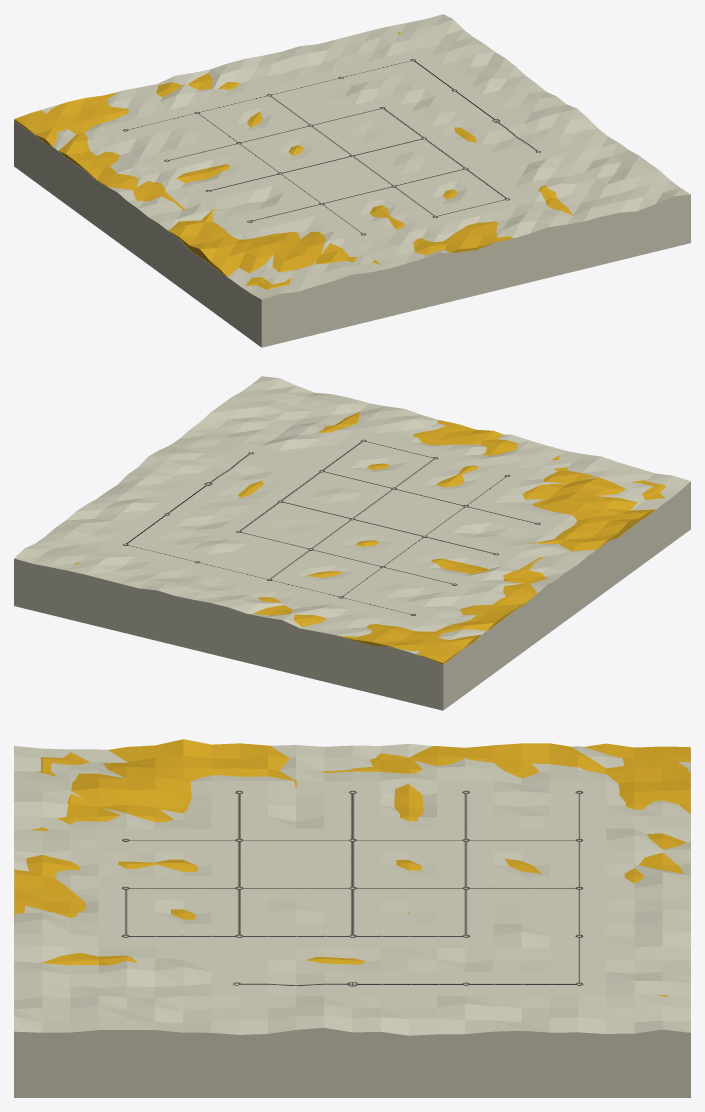
The model's file is Nivell4.FBX.
3 renders of one model, top to bottom at view 1: azimuth 30°, elevation 25°; view 2: azimuth 150°, elevation 25°; view 3: azimuth 270°, elevation 25°, orthographic. The views are drawn at different scales.
Visible parts, largest first — view 1: Plane001; view 2: Plane001; view 3: Plane001.
Part boxes in pixels (x1,y1,x2,y2): Plane001: (14, 14, 690, 347); Plane001: (14, 376, 690, 710); Plane001: (14, 739, 690, 1097).
Size of the model in its own units: 30.03 by 3.56 by 30.03.
1 material, 1 textured.
